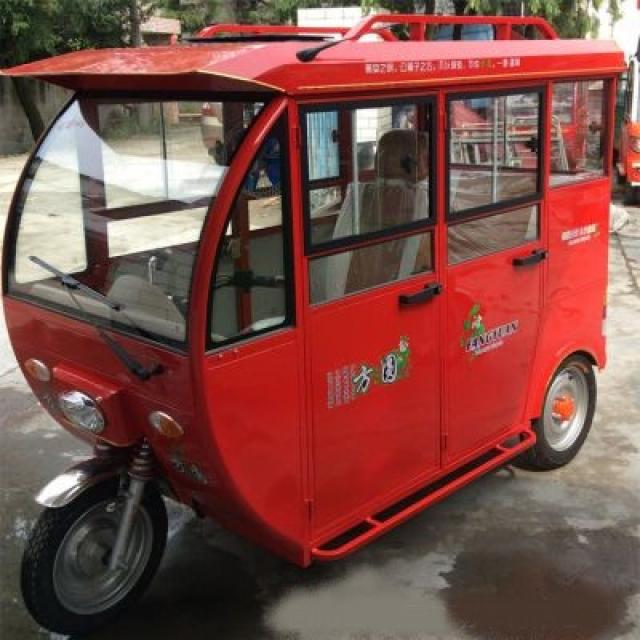tricycle: (0, 9, 622, 632)
